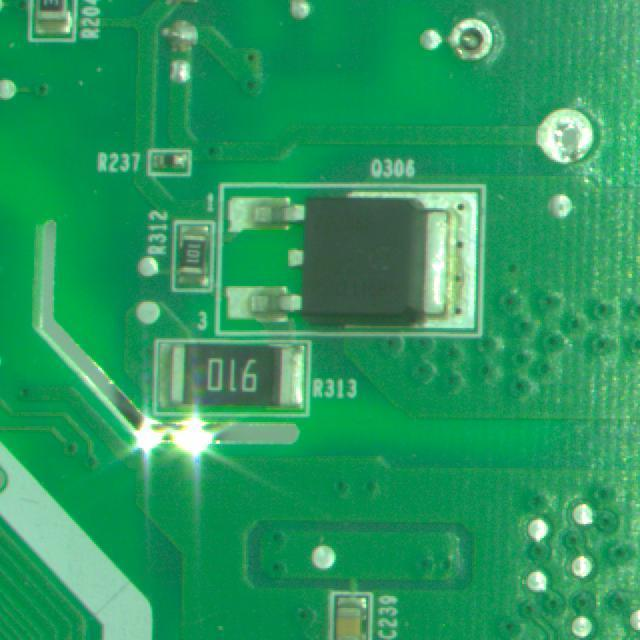Insufficient solder: (533, 98, 602, 185), (444, 11, 504, 72)
